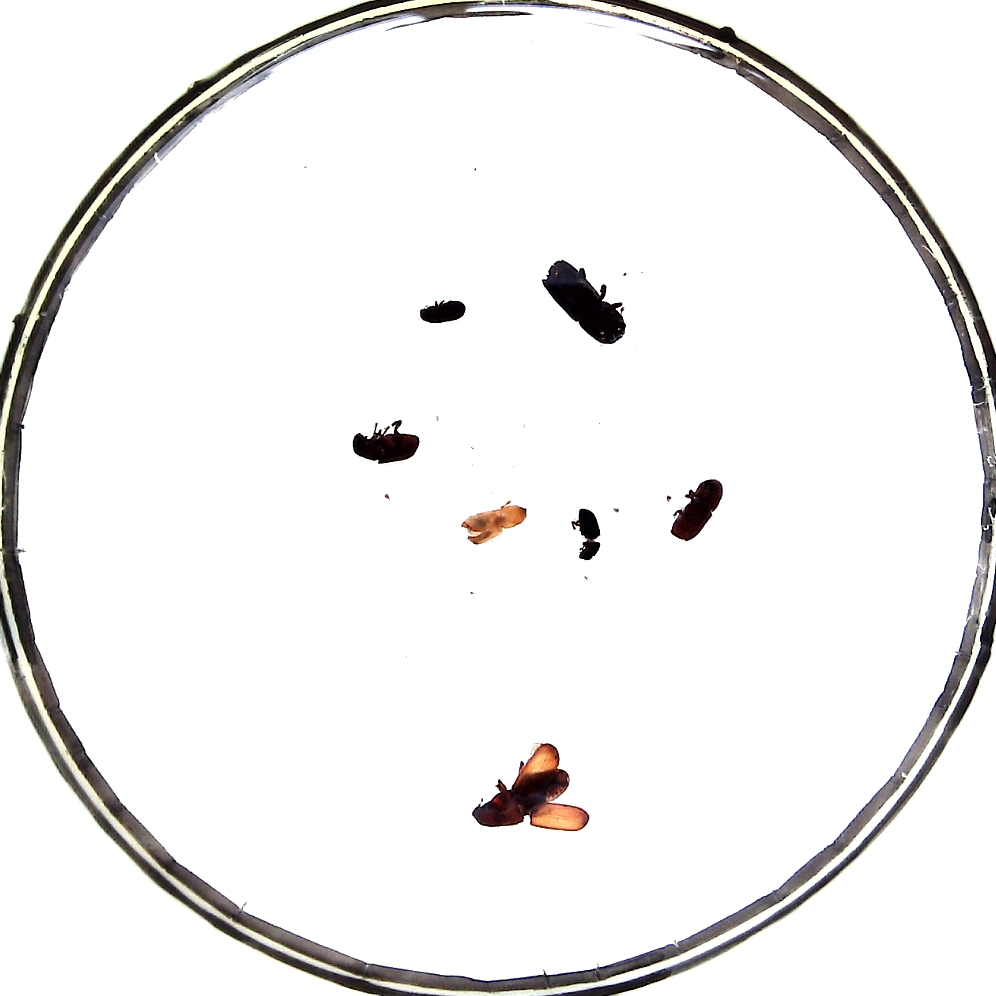Boerner: (543, 260, 626, 344)
Leconte: (471, 768, 570, 827)
acuminatus: (578, 508, 601, 560), (420, 301, 466, 323)
armandi: (353, 432, 419, 464)
coleoptera: (461, 505, 527, 545)
linnaeus: (670, 479, 724, 541)
